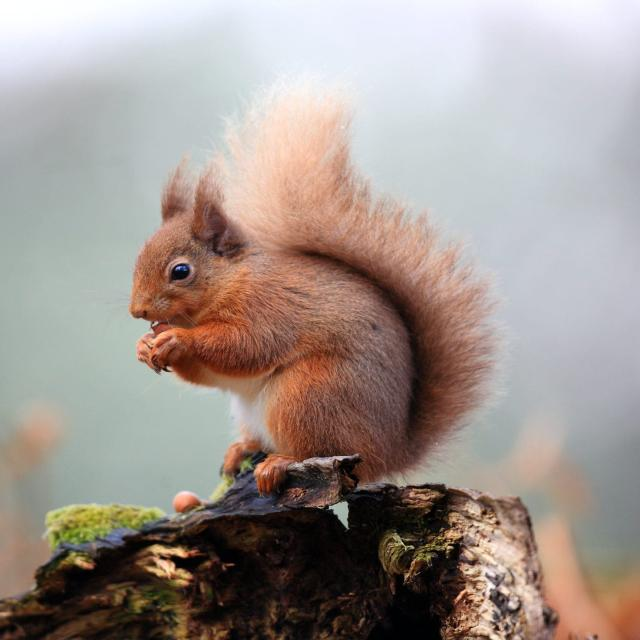Squirrel: (118, 82, 501, 503)
